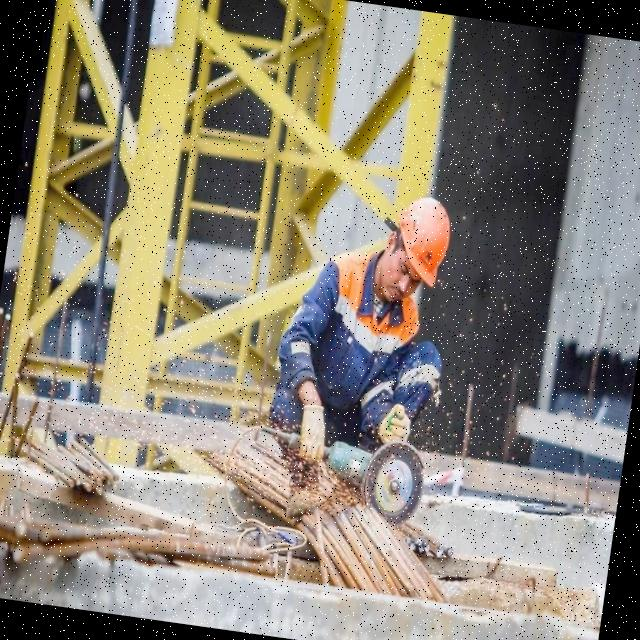Helmet: (390, 195, 456, 292)
Jacket: (315, 259, 419, 393)
